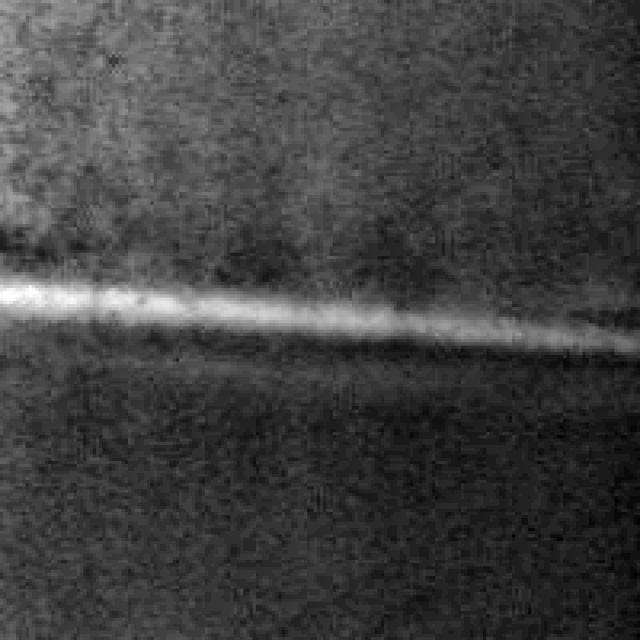Inclusion: (0, 266, 547, 346)
